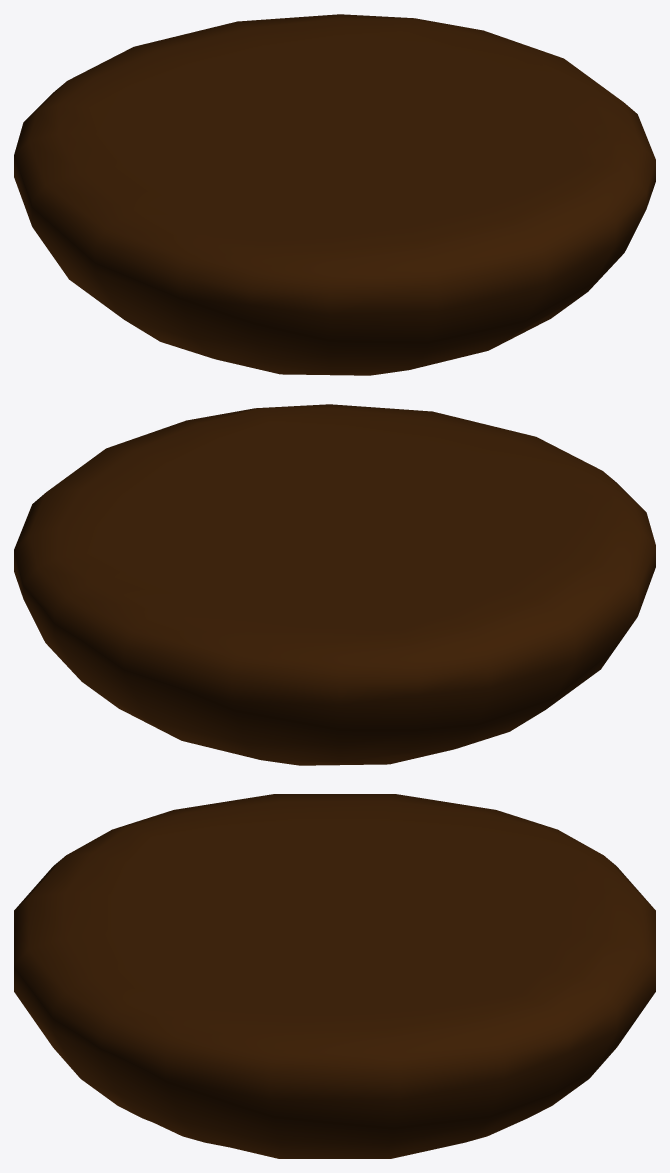
Rendered from obj_PlatformSmall_001.FBX.
3 renders of one model, top to bottom at view 1: azimuth 30°, elevation 25°; view 2: azimuth 150°, elevation 25°; view 3: azimuth 270°, elevation 25°, orthographic. The views are drawn at different scales.
Visible parts, largest first — view 1: mesh_PlatformSmall_001; view 2: mesh_PlatformSmall_001; view 3: mesh_PlatformSmall_001.
Part boxes in pixels (box(x1,y1,x2,y2)): mesh_PlatformSmall_001: box(14, 14, 655, 375); mesh_PlatformSmall_001: box(14, 404, 655, 765); mesh_PlatformSmall_001: box(14, 794, 655, 1158).
Size of the model in its own units: 101 by 33.59 by 101.
